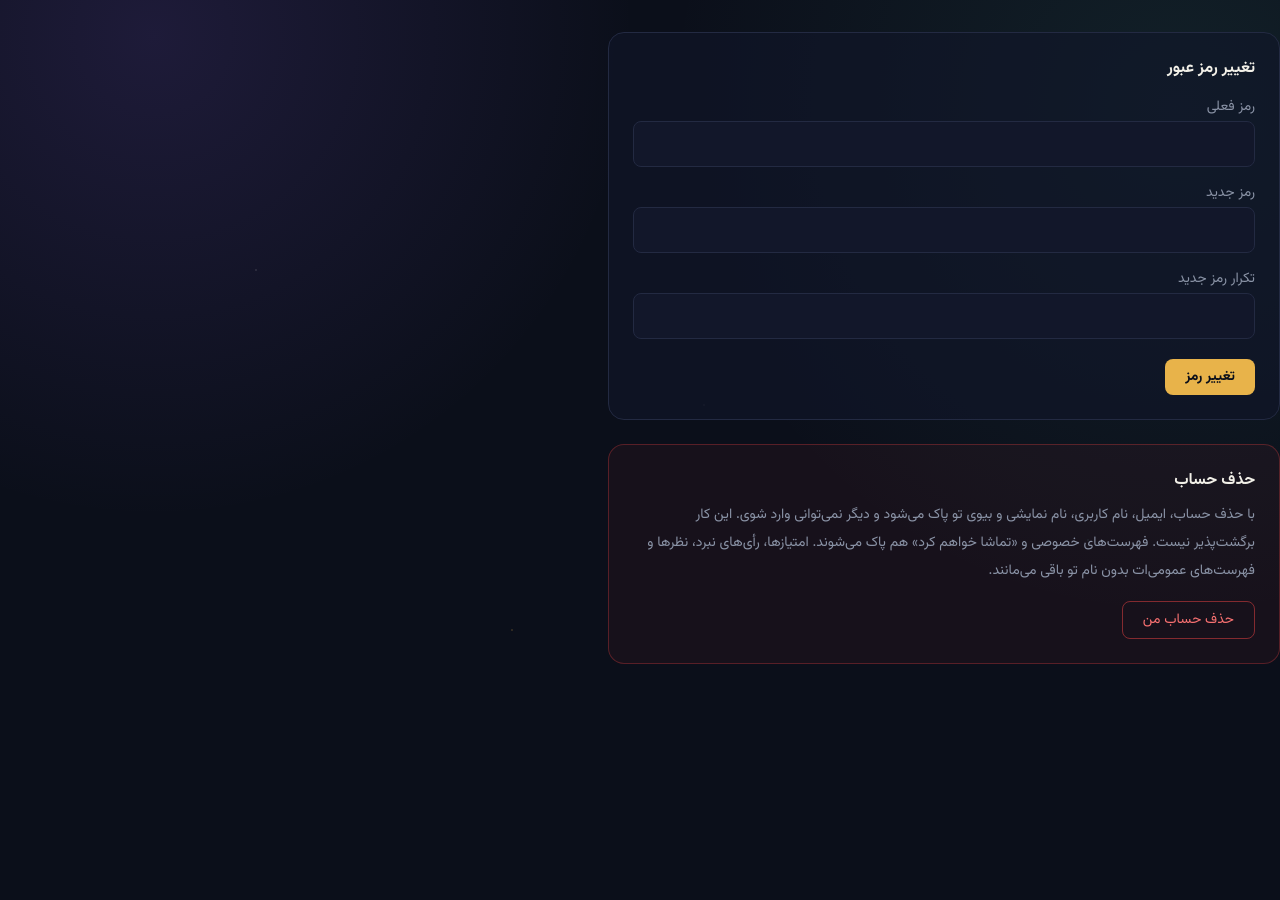
Test: change password form › submits, switches to the fresh token pair, confirms and clears the fields
This screenshot has width=1280, height=900.
Type "OldSecret!1" into the password field labelled "رمز فعلی" at (944, 144), box 633,121 -> 1255,167
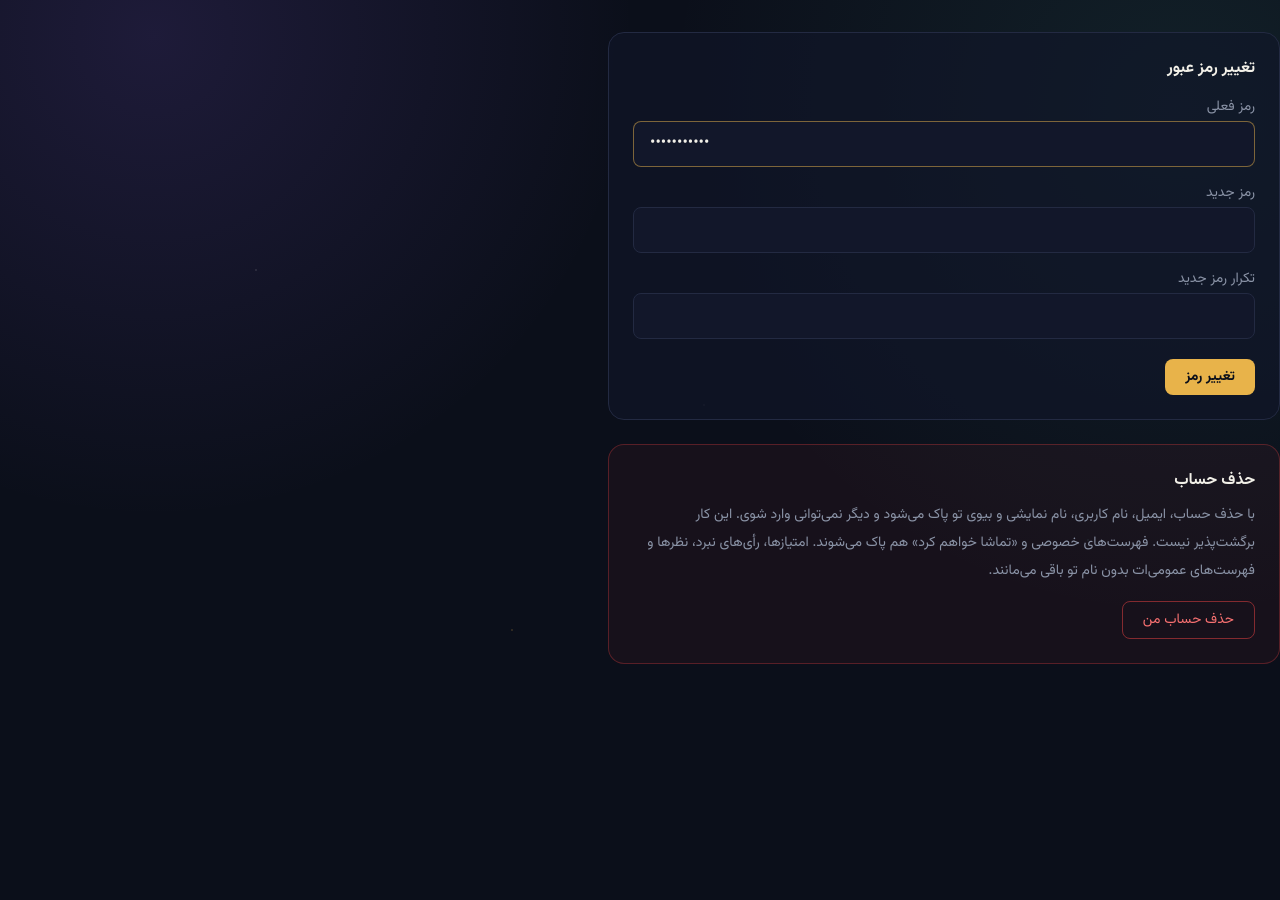
Type "NewSecret!123" into the password field labelled "رمز جدید" at (944, 230), box 633,207 -> 1255,253
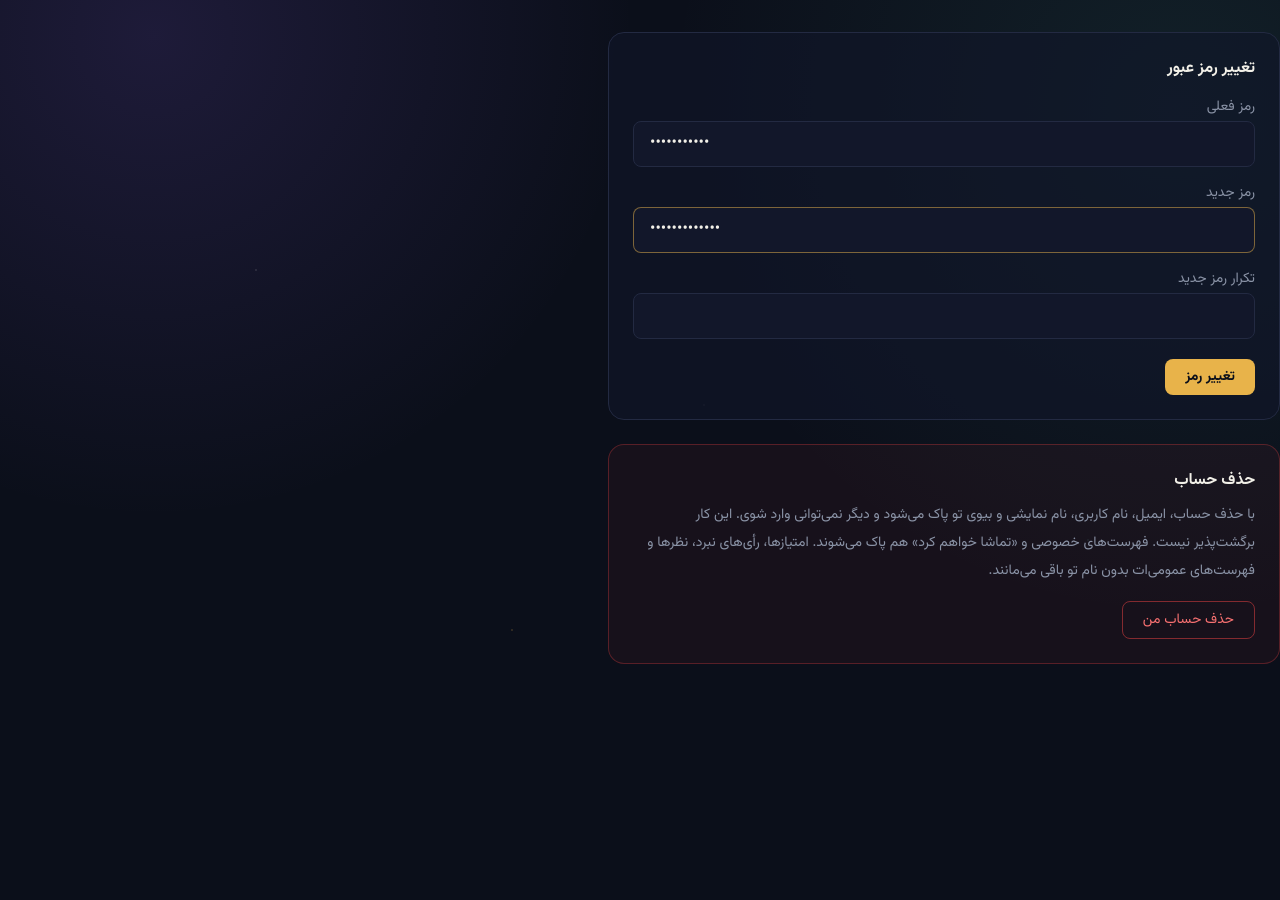
Type "NewSecret!123" into the password field labelled "تکرار رمز جدید" at (944, 316), box 633,293 -> 1255,339
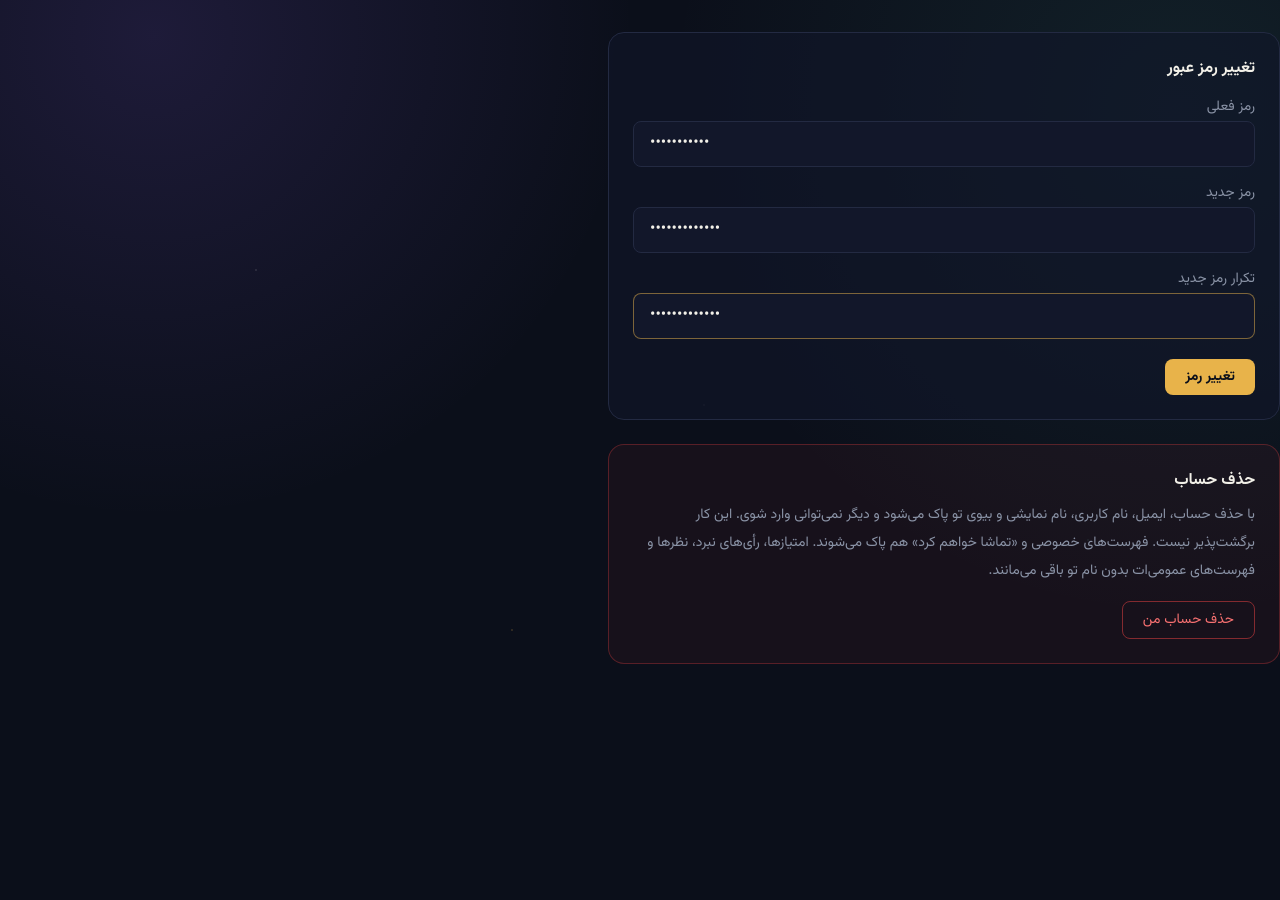
Click the button "تغییر رمز" at (1210, 377), box 1165,359 -> 1255,395
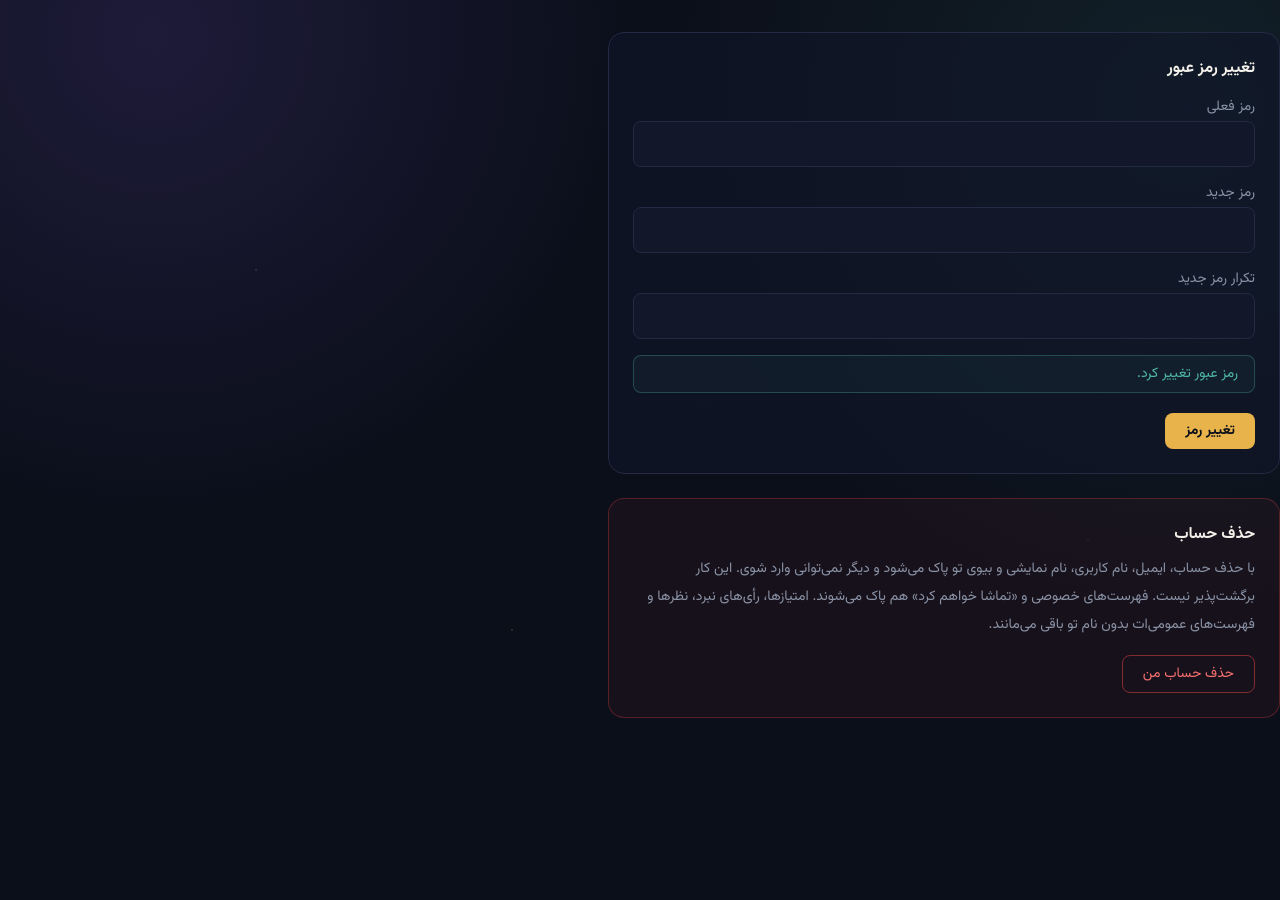
Now the message shows "رمز عبور تغییر کرد", box 1137,363 -> 1238,385
Now the password field labelled "رمز فعلی" is empty, box 633,121 -> 1255,167
